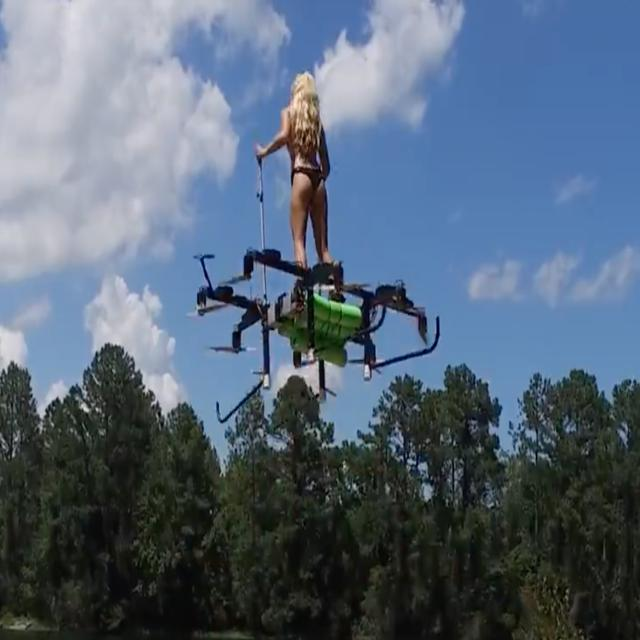drone: (184, 245, 445, 428)
